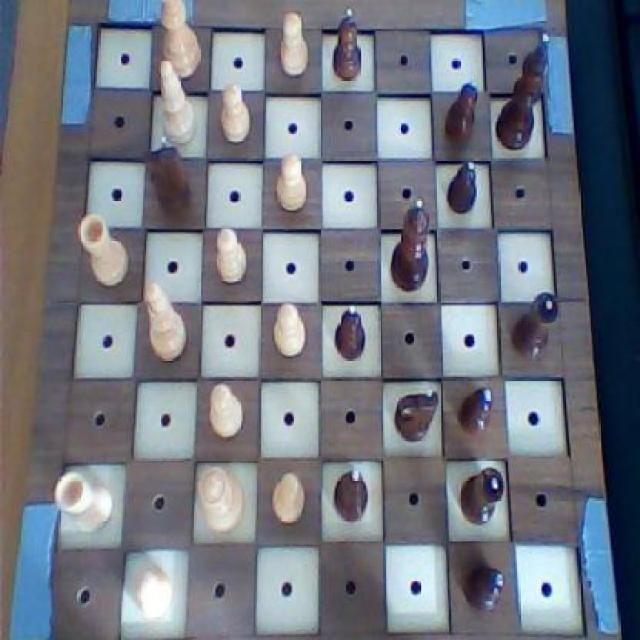bishop: (329, 464, 374, 528)
black-king: (143, 134, 196, 225), (386, 386, 440, 446)
black-knight: (442, 78, 483, 154), (330, 3, 366, 87), (458, 558, 506, 616), (454, 382, 496, 442), (331, 302, 369, 363), (445, 158, 480, 218)
black-pawn: (494, 28, 554, 155), (388, 192, 435, 297)
black-queen: (506, 290, 561, 366), (454, 466, 507, 529)
black-rook: (138, 277, 190, 364), (154, 55, 198, 148)
white-bishop: (155, 0, 203, 85)
white-knight: (272, 8, 314, 84), (129, 559, 176, 623), (205, 378, 249, 446), (269, 149, 311, 218), (266, 299, 309, 363), (268, 468, 310, 532), (212, 226, 254, 289), (216, 80, 254, 147)
white-pawn: (194, 458, 249, 542)
white-queen: (52, 466, 117, 543), (74, 209, 134, 291)
